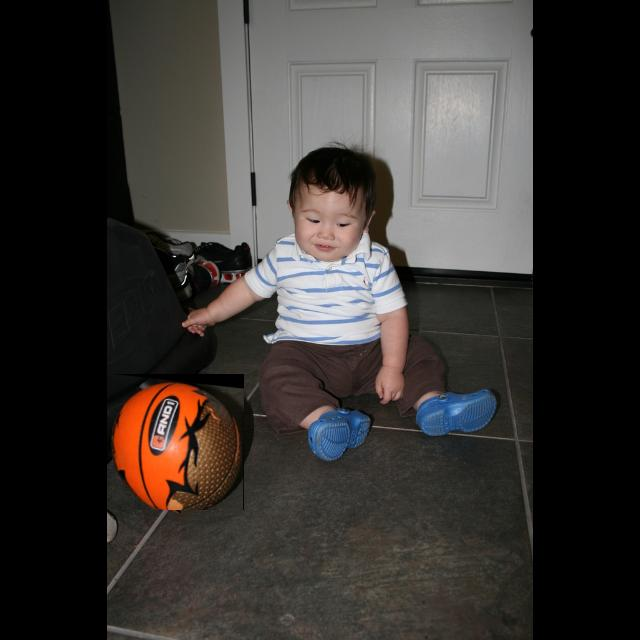Football: (112, 374, 244, 510)
